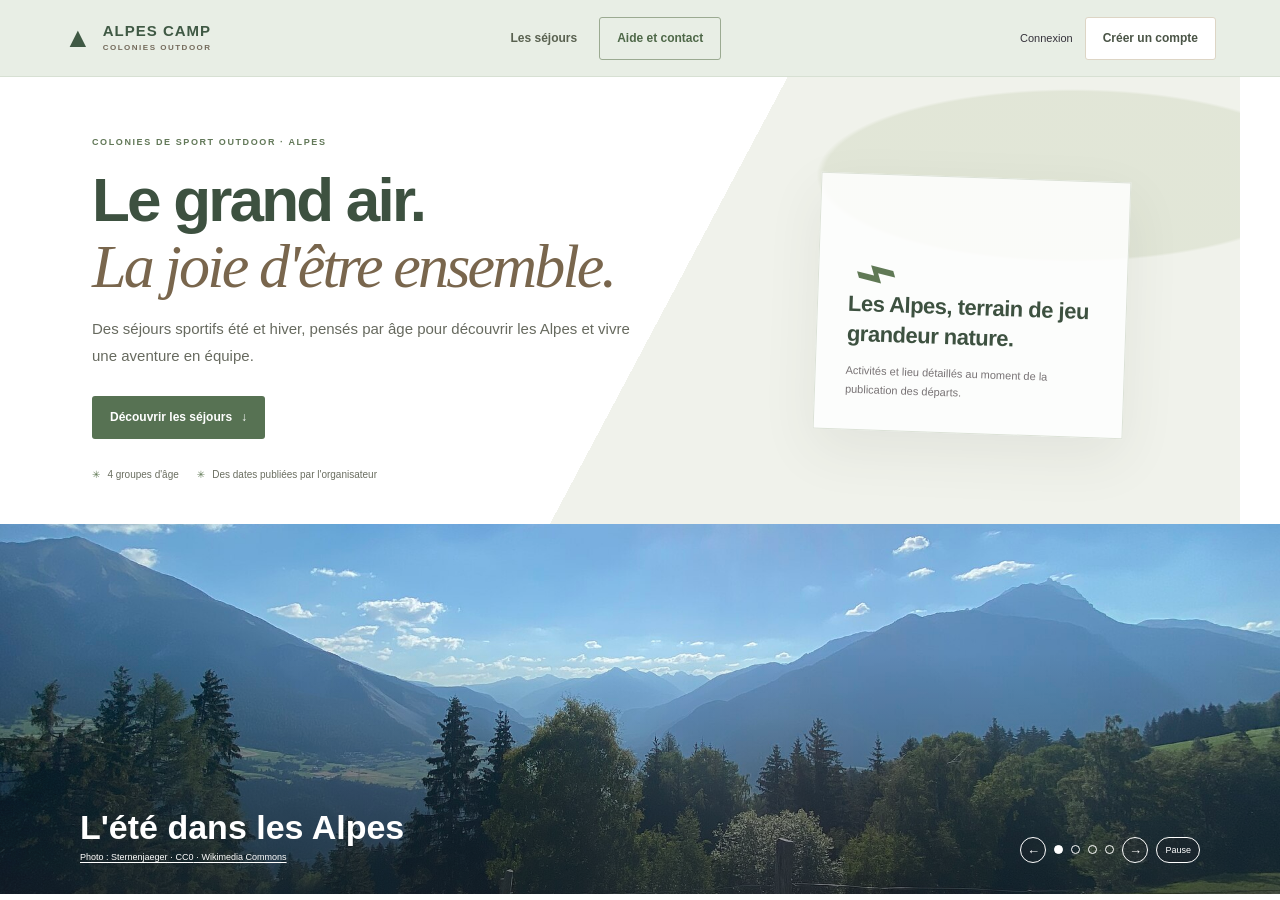
Test: application Alpes Camp › permet d'envoyer un message à l'organisateur depuis aide et contact
Click the link "Aide et contact" at (660, 38), box [599, 16, 721, 60]
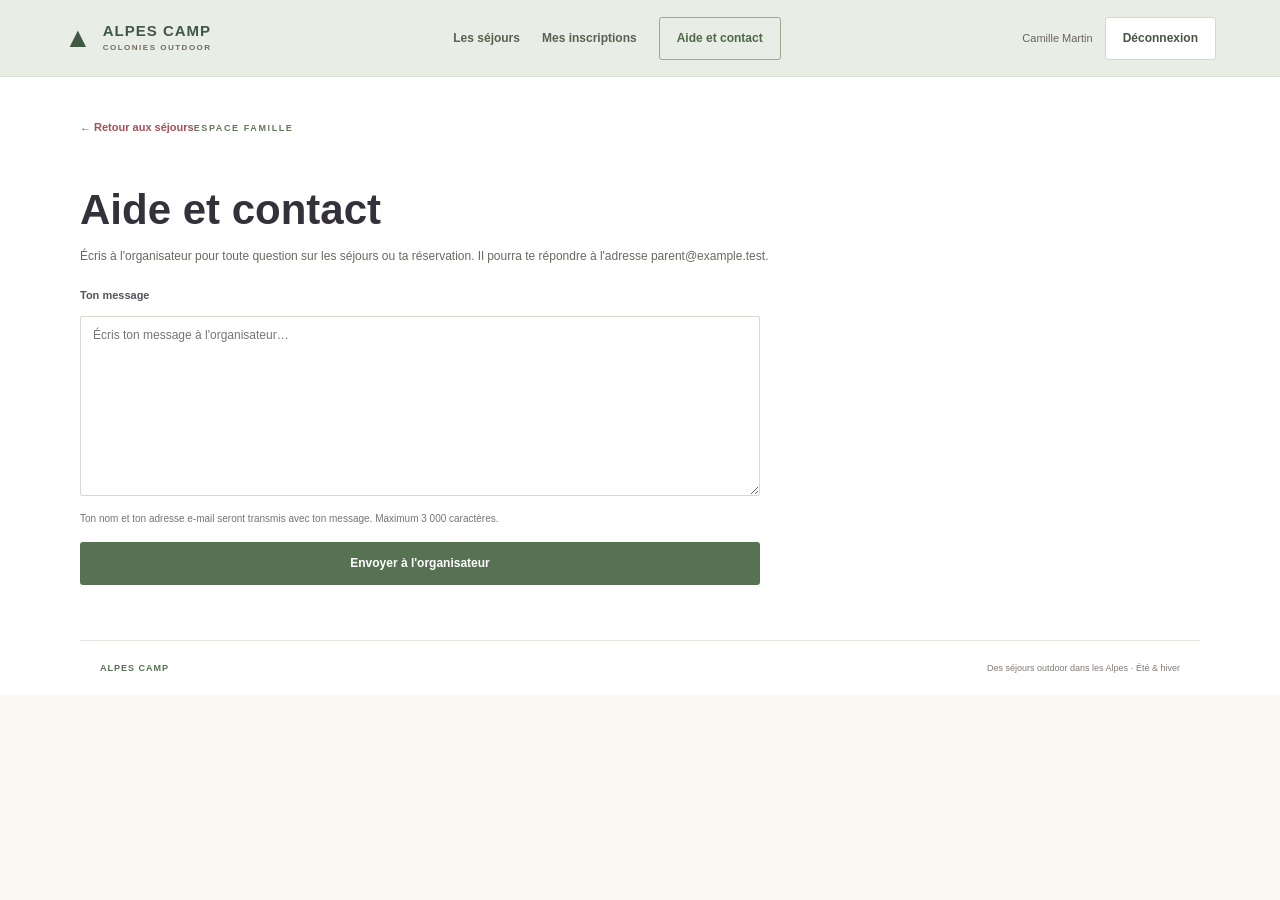
Expected: the heading "Aide et contact" is shown, [80, 186, 381, 233]
Expected: the text "parent@example.test" is shown, [651, 249, 765, 263]
Type "Bonjour, pouvez-vous m'aider avec mon inscription ?" into the text box labelled "Ton message" at (420, 406), box [80, 316, 760, 496]
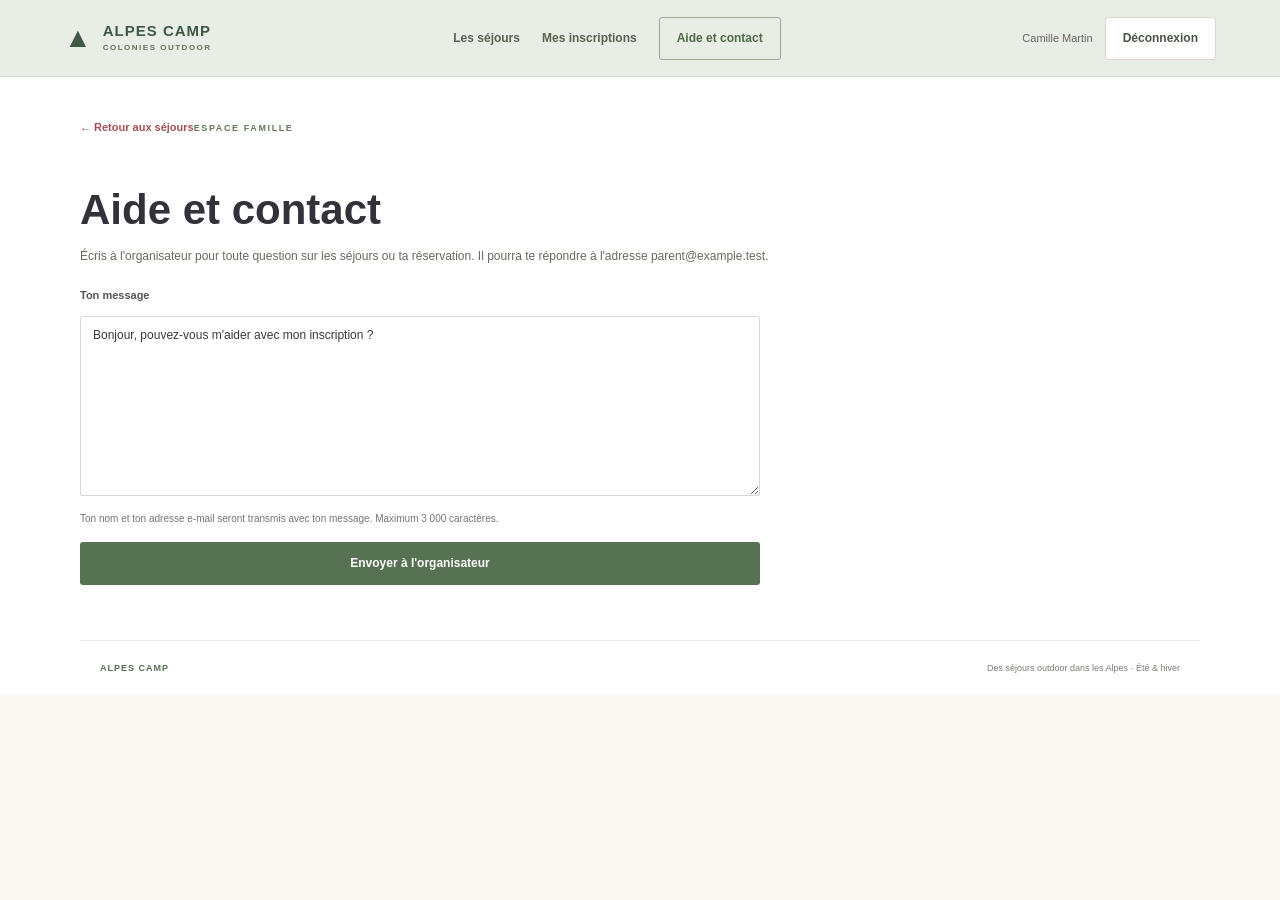
Click the button "Envoyer à l'organisateur" at (420, 563), box [80, 542, 760, 584]
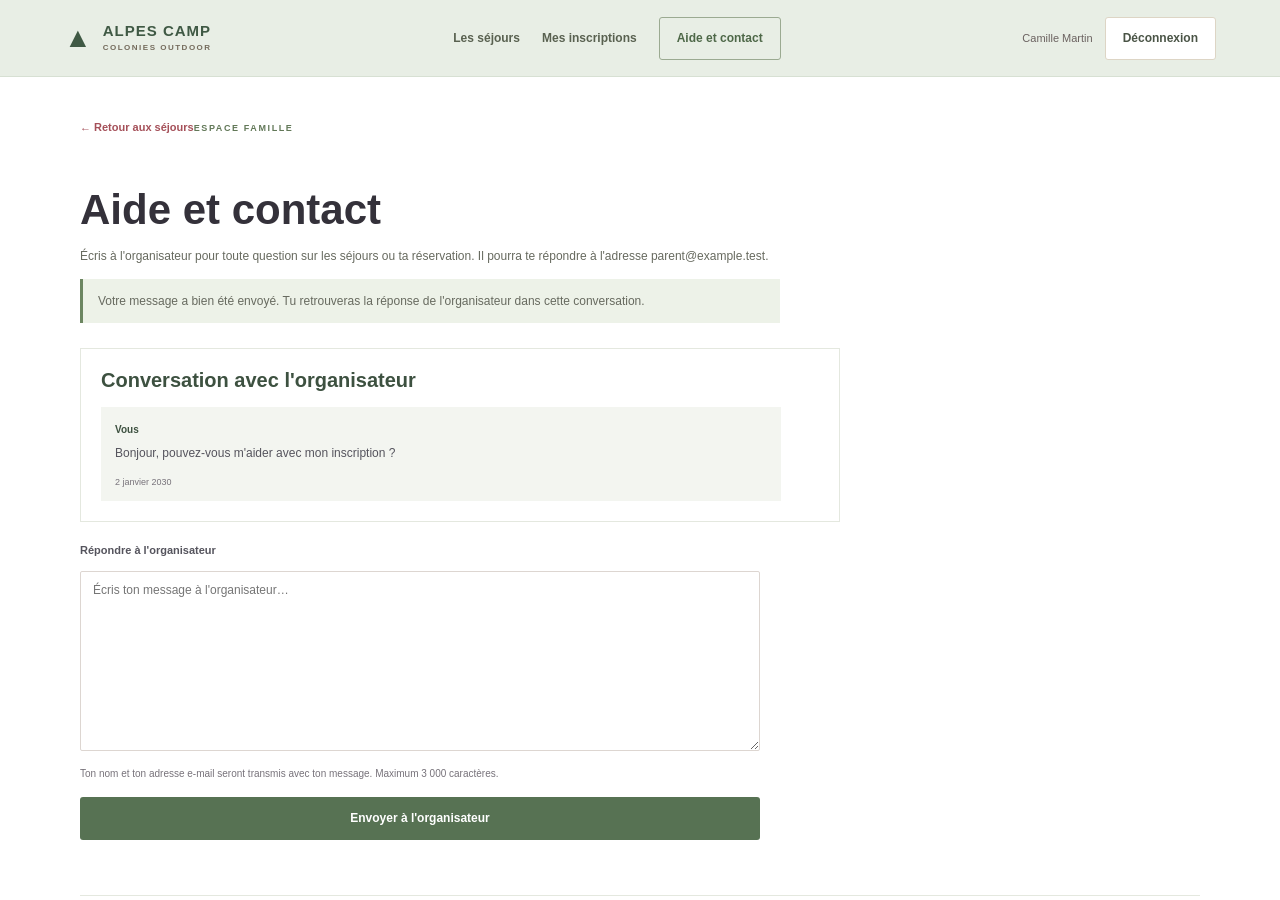
Expected: the text "Votre message a bien été envoyé" is shown, [98, 294, 645, 308]
Expected: the text "Bonjour, pouvez-vous m'aider avec mon inscription ?" is shown, [115, 446, 395, 460]
